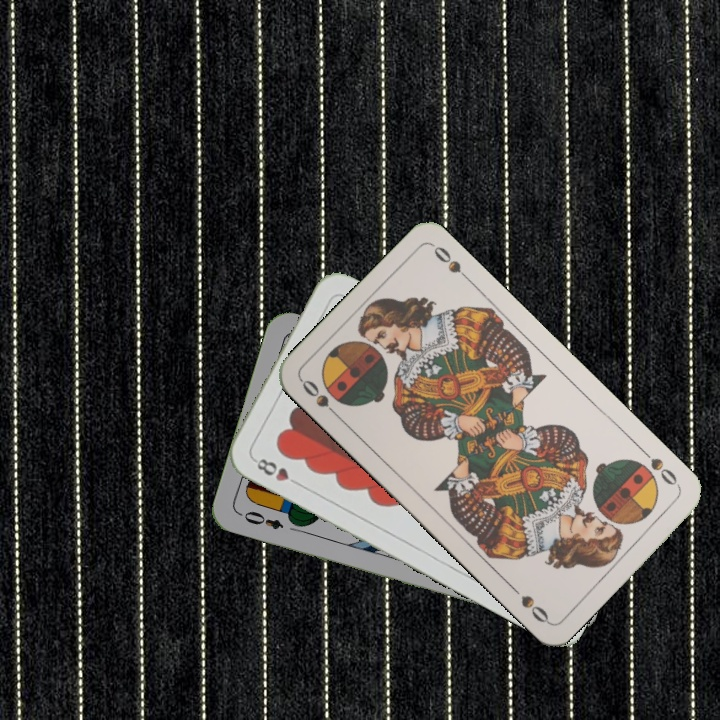EO: (235, 507, 286, 533)
H8: (249, 454, 304, 489)
SO: (632, 444, 683, 491), (296, 375, 344, 422)
